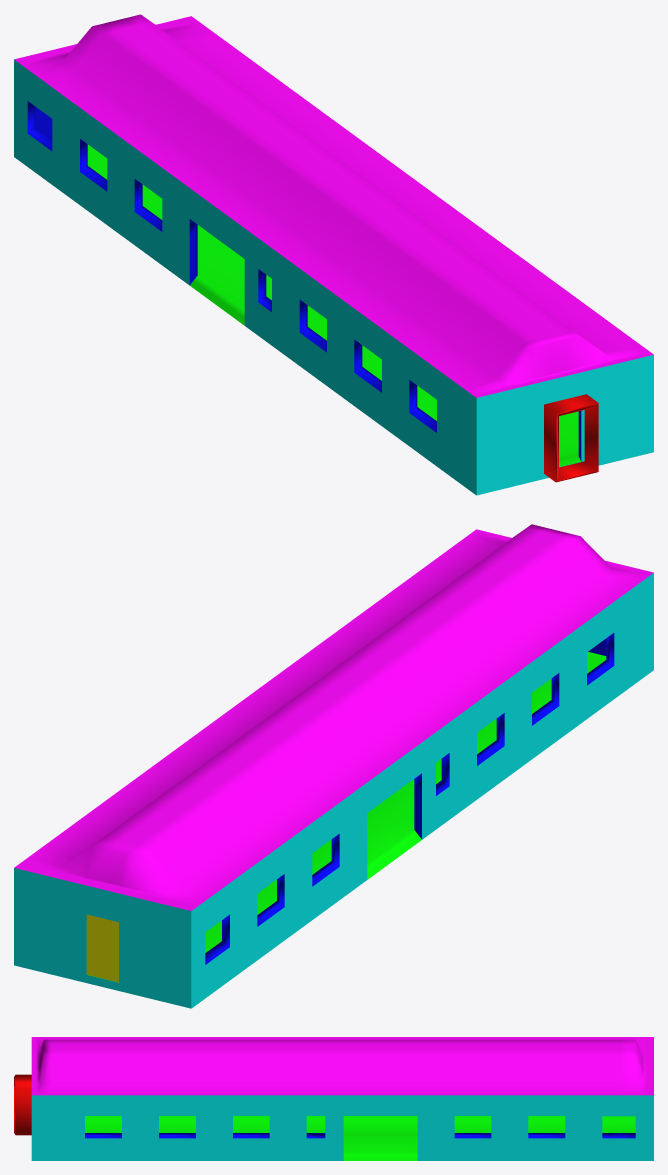
Rendered from wagon.fbx.
3 renders of one model, top to bottom at view 1: azimuth 30°, elevation 25°; view 2: azimuth 150°, elevation 25°; view 3: azimuth 270°, elevation 25°, orthographic. The views are drawn at different scales.
Visible parts, largest first — view 1: polySurface21, polySurface19, polySurface23, polySurface13, polySurface27, pasted__Transition; view 2: polySurface21, polySurface19, polySurface25, polySurface13, polySurface27, pCube122; view 3: polySurface21, polySurface20, polySurface13, polySurface27, pasted__Transition.
Part boxes in pixels (left/top/right/bottom): polySurface21: left=14, top=14, right=653, bottom=397; polySurface19: left=14, top=59, right=476, bottom=495; polySurface23: left=476, top=354, right=653, bottom=495; polySurface13: left=87, top=144, right=580, bottom=466; polySurface27: left=27, top=101, right=581, bottom=460; pasted__Transition: left=544, top=394, right=598, bottom=482; polySurface21: left=14, top=524, right=653, bottom=910; polySurface19: left=191, top=573, right=653, bottom=1008; polySurface25: left=14, top=868, right=191, bottom=1008; polySurface13: left=87, top=652, right=606, bottom=982; polySurface27: left=205, top=633, right=614, bottom=964; pCube122: left=86, top=914, right=118, bottom=982; polySurface21: left=31, top=1037, right=653, bottom=1095; polySurface20: left=31, top=1095, right=653, bottom=1160; polySurface13: left=85, top=1116, right=635, bottom=1160; polySurface27: left=85, top=1133, right=635, bottom=1138; pasted__Transition: left=14, top=1074, right=31, bottom=1135.
Size of the model in its own units: 13.43 by 9.04 by 62.33.
